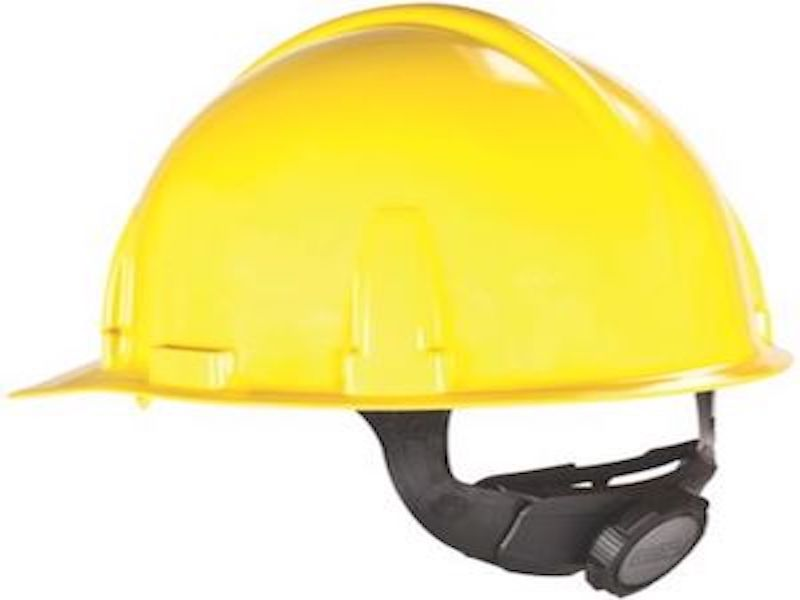safety: (44, 14, 775, 410)
